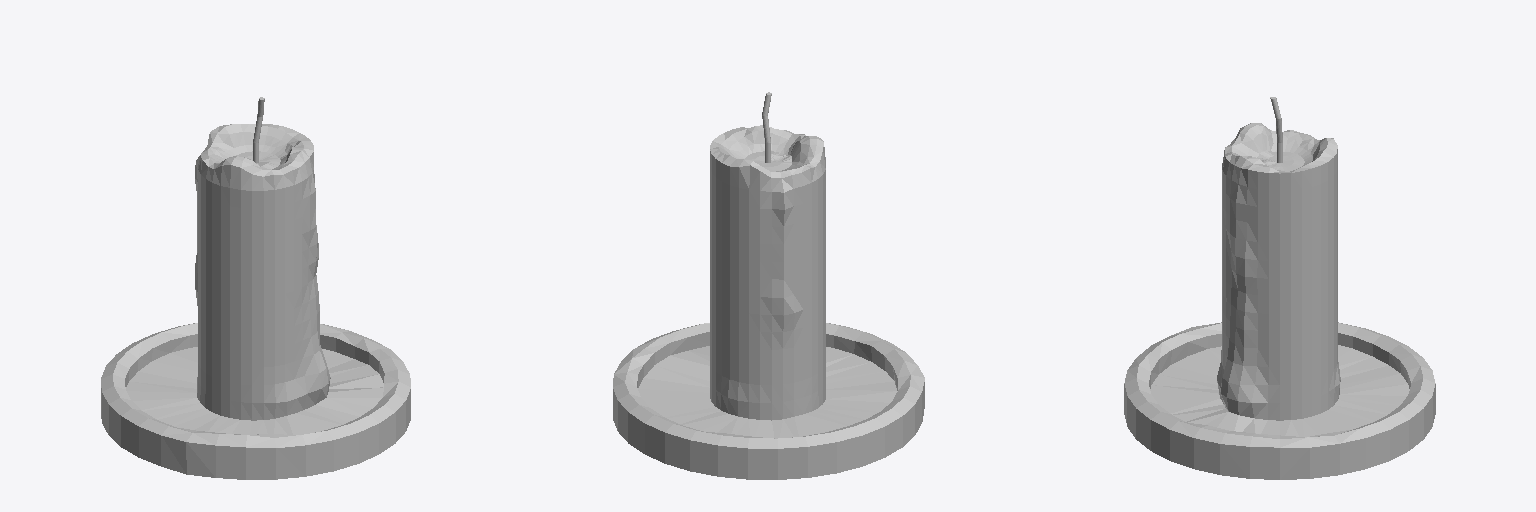
File: candle.obj
3 views of the same model, side by side, from view 1: azimuth 30°, elevation 25°; view 2: azimuth 150°, elevation 25°; view 3: azimuth 270°, elevation 25° (orthographic).
Parts seen in each view (by area): view 1: Cylinder; view 2: Cylinder; view 3: Cylinder.
Part boxes in pixels (bbox=[...]): Cylinder: bbox=[101, 97, 410, 479]; Cylinder: bbox=[613, 92, 924, 479]; Cylinder: bbox=[1124, 97, 1435, 479].
Size of the model in its own units: 2 by 2.26 by 2.